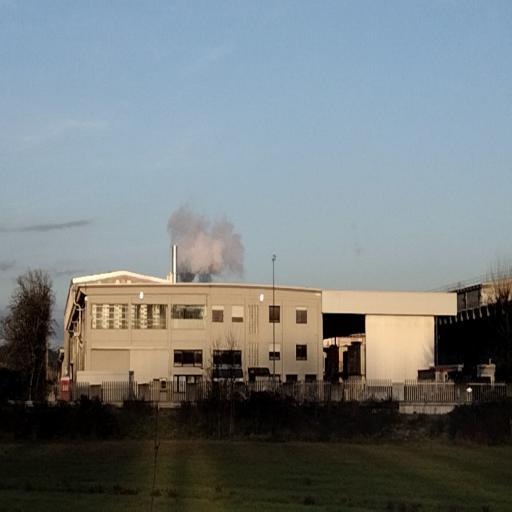leakage: (166, 196, 249, 282)
